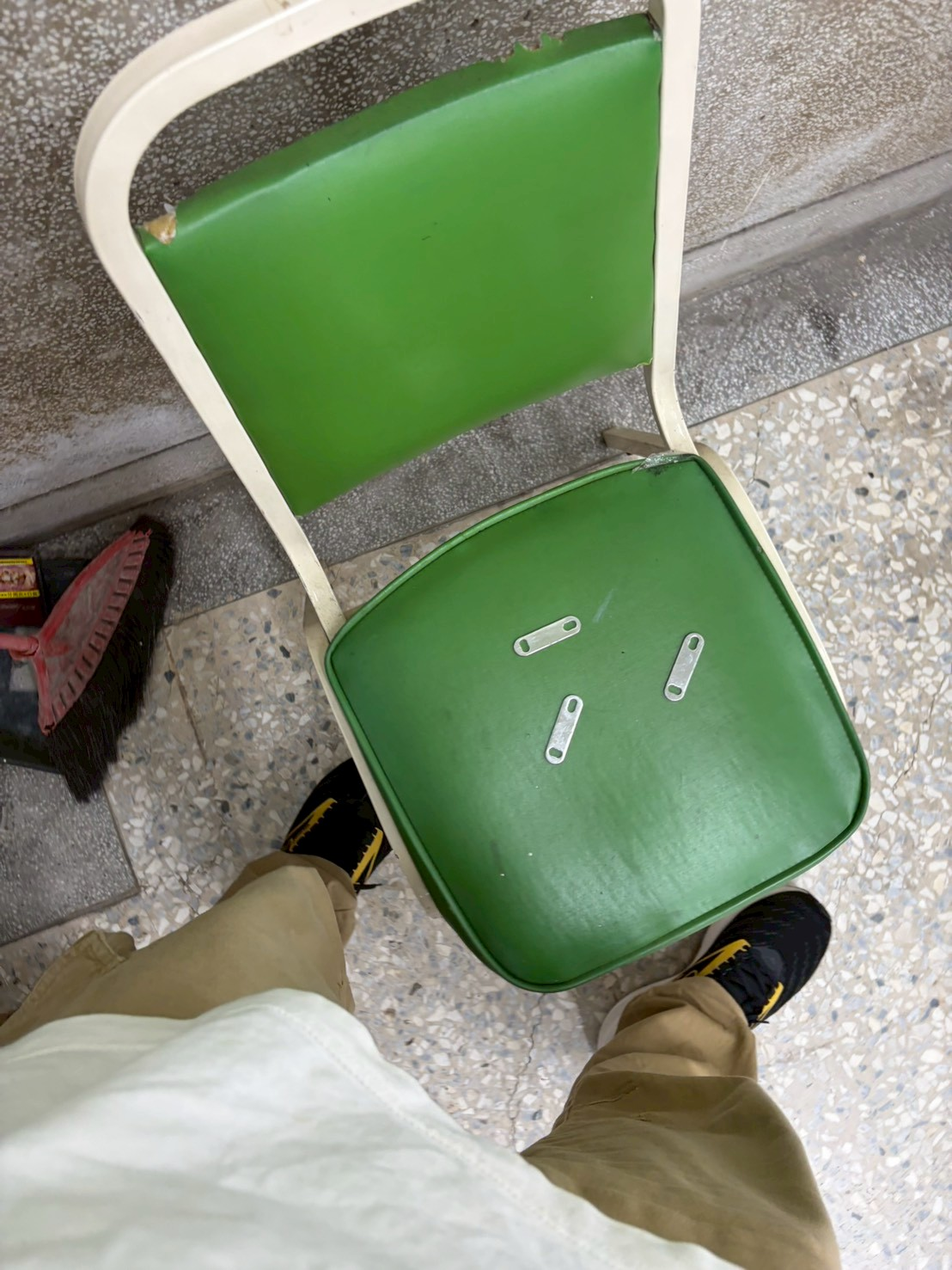Fe: (510, 608, 581, 668), (662, 623, 704, 698), (547, 693, 588, 767)
